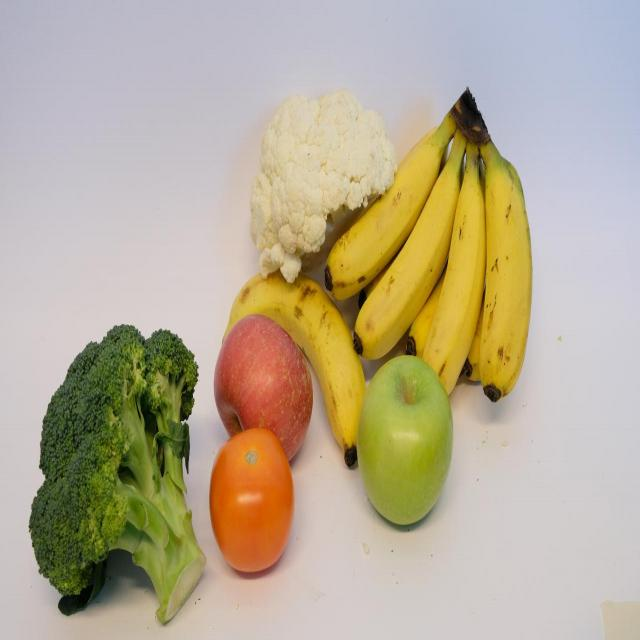apple: (355, 361, 465, 526), (222, 306, 319, 452)
banana: (230, 254, 365, 450), (324, 121, 441, 312), (354, 162, 455, 366), (482, 153, 539, 403), (423, 170, 479, 406)
broccoli: (26, 327, 207, 612)
cauliflower: (246, 81, 391, 262)
tomato: (205, 420, 294, 568), (322, 459, 325, 464)
